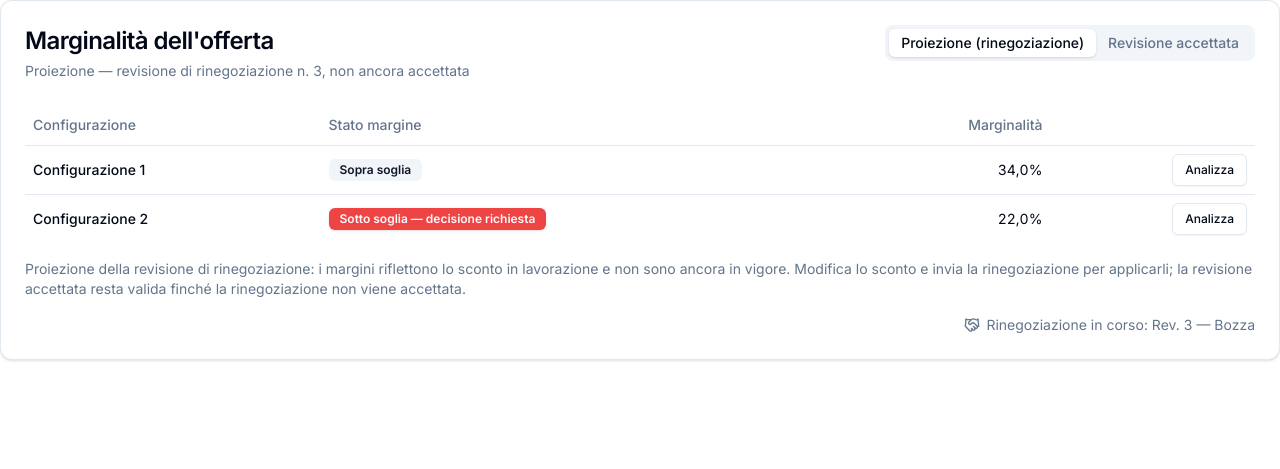
OfferMarginOverview — revision selector › swaps the decision-required badges to 'rinegoziazione in corso' on the accepted view only
The image size is (1280, 469).
Expected: the text "Sotto soglia — decisione richiesta" is shown, [328,208,546,230]
Click the tab "Revisione accettata" at (1174, 43), box [1096,29,1251,57]
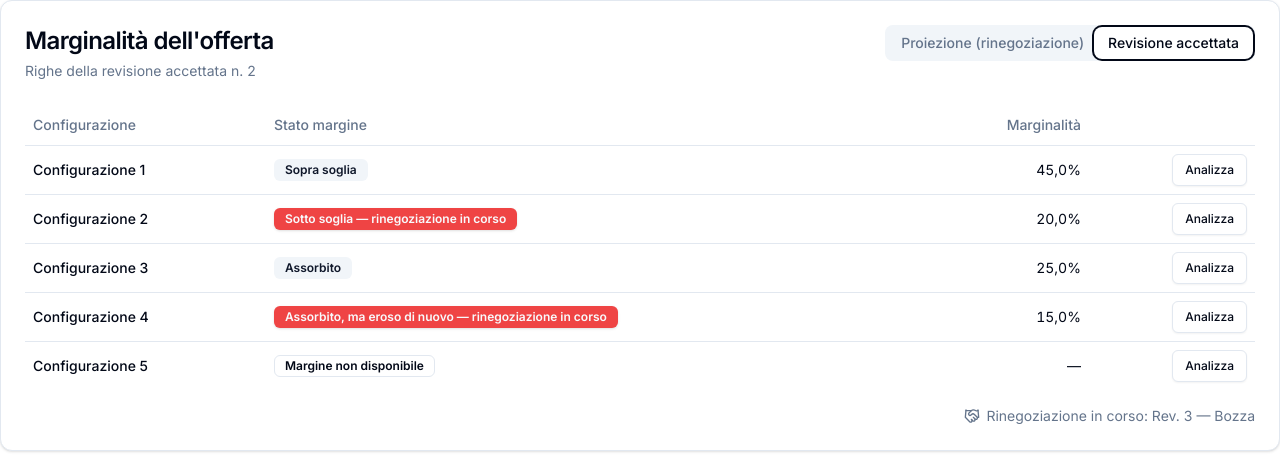
Result: the text "Sotto soglia — rinegoziazione in corso" is shown at [274,208,517,230]
Result: the text "Assorbito, ma eroso di nuovo — rinegoziazione in corso" is shown at [274,306,618,328]
Result: the text "Sotto soglia — decisione richiesta" is gone
